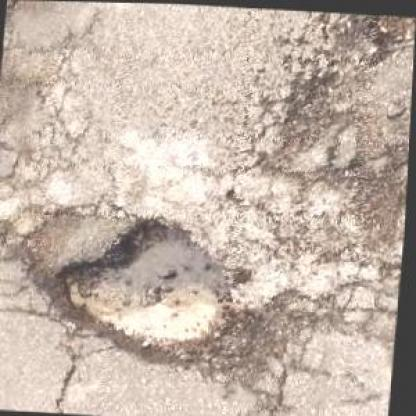pothole: (36, 205, 264, 373)
